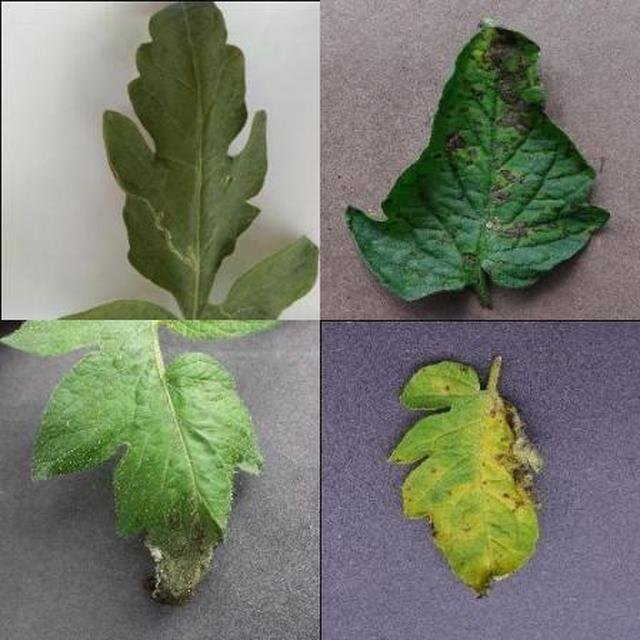Leaf Miner: (188, 213, 640, 640)
